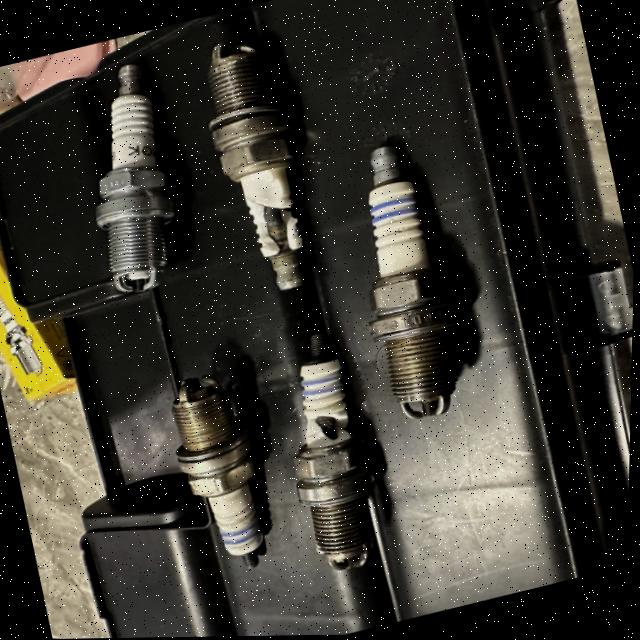damaged_spark-plug: (192, 27, 333, 301), (265, 326, 388, 580)
spark-plug: (331, 134, 481, 427), (54, 57, 195, 299), (163, 372, 269, 573)
